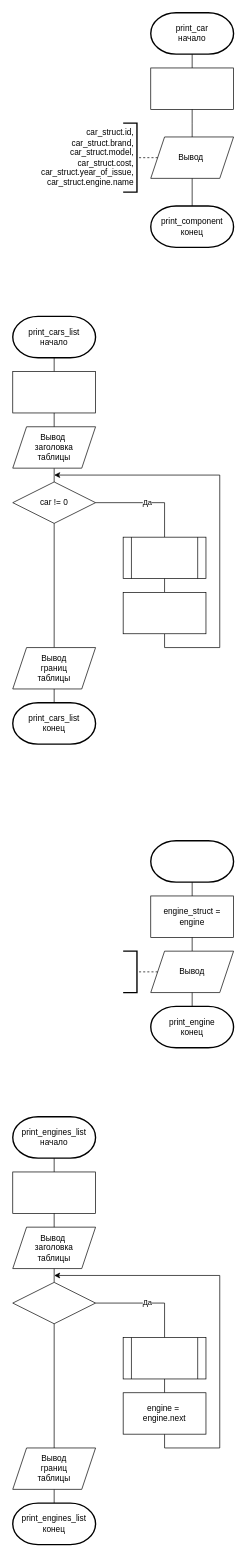
This 246x1557 diagram has some shape labels left out. The shapes that lost their labels are listed below. From the top down, each one's centre as x and y in pixels, then its label:
At point 192,88: "car_struct = car".
At point 54,392: "car = cars.first".
At point 164,557: "print_car(car)".
At point 164,613: "car = car.next".
At point 192,861: "print_engine начало".
At point 129,971: "engine_struct.id, engine_struct.name, engine_struct.volume, engine_struct.power".
At point 54,1192: "engine = engines.first".
At point 54,1303: "component != 0".
At point 164,1358: "print_engine (engine)".
